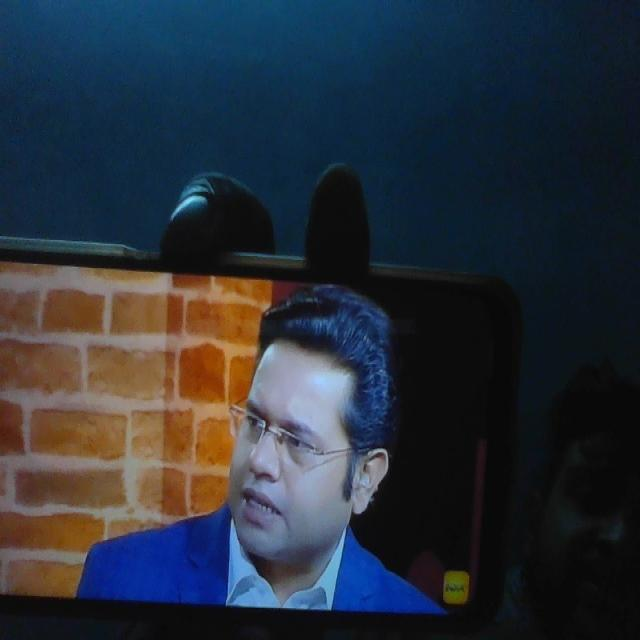fake: (226, 309, 362, 567)
